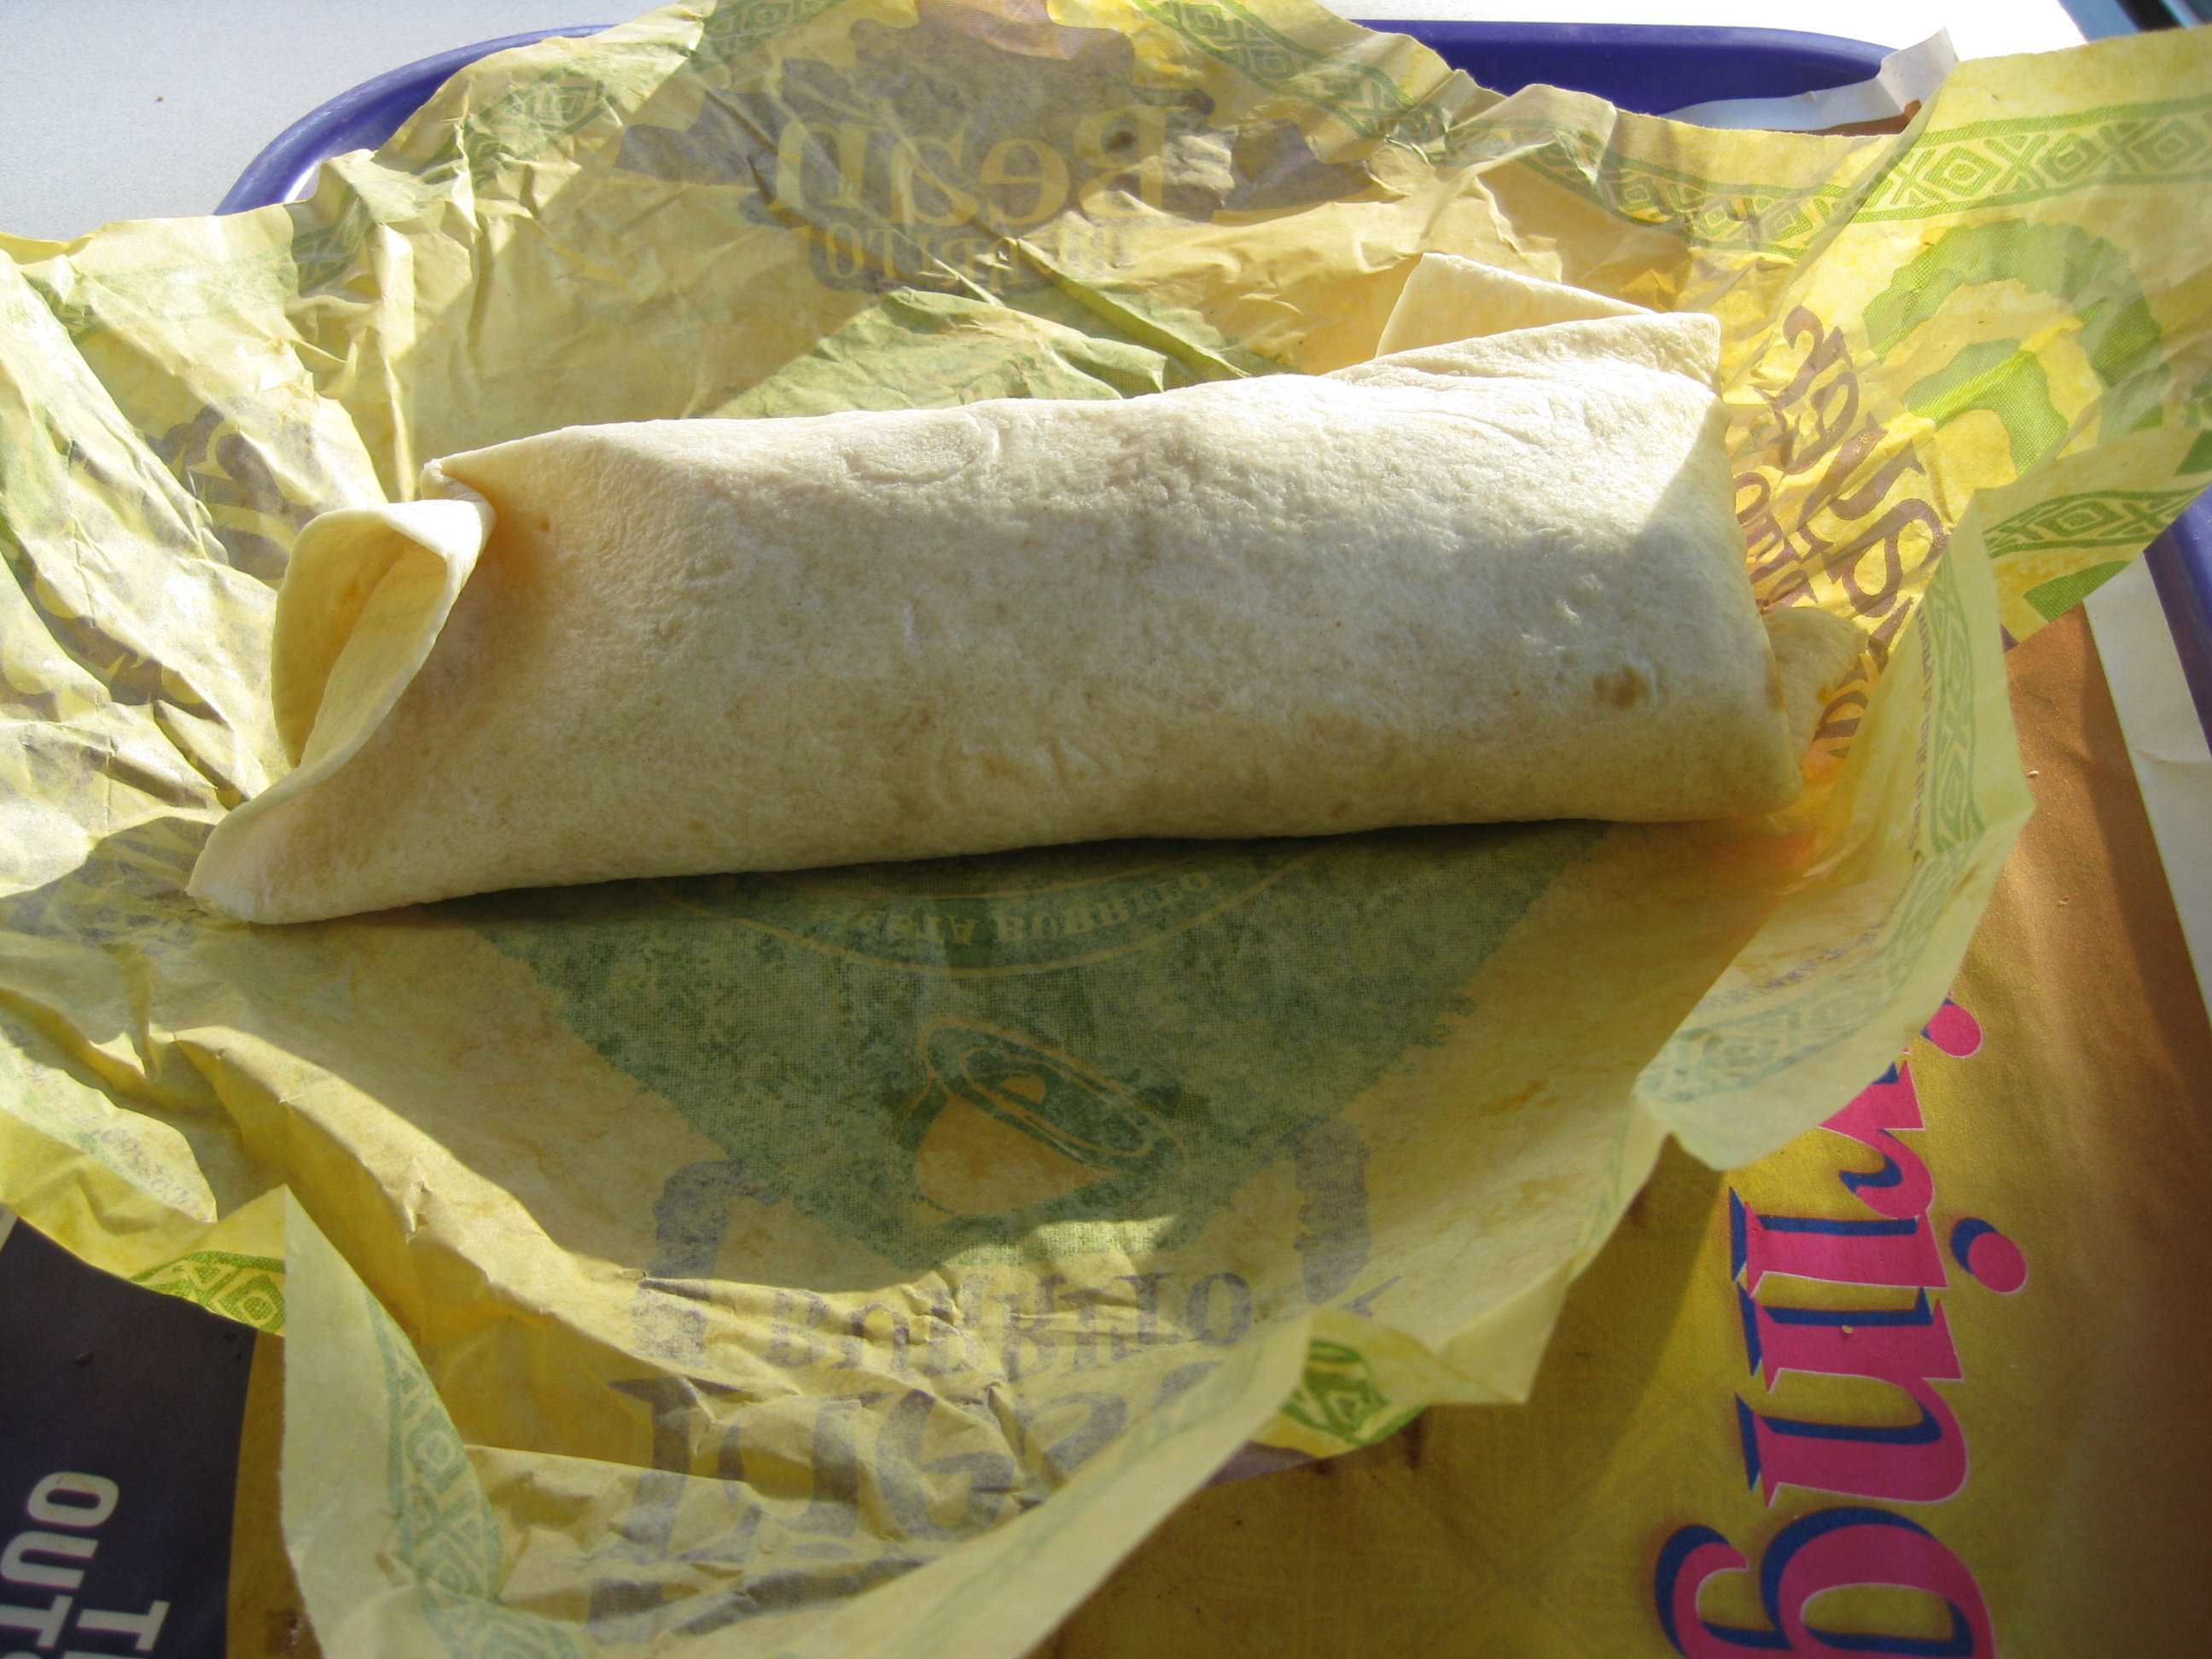burrito: (211, 369, 1911, 928)
